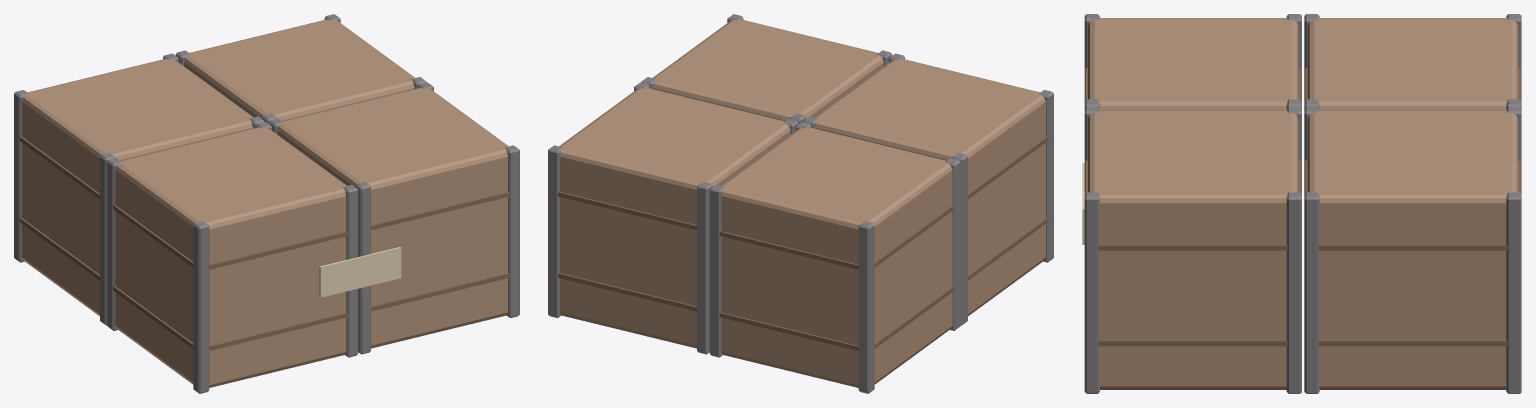
The model's file is crates.glb.
3 renders of one model, left to right at view 1: azimuth 30°, elevation 25°; view 2: azimuth 150°, elevation 25°; view 3: azimuth 270°, elevation 25°, orthographic. The views are drawn at different scales.
Visible parts, largest first — view 1: wood.001, wood.003, wood, wood.002, iron.005, cloth2*0.9, iron.015, iron.013, iron.007, iron.004, iron.001, iron (+8 smaller); view 2: wood, wood.002, wood.001, wood.003, iron, iron.008, iron.002, iron.010, iron.001, iron.004, iron.005, plank*0.008 (+7 smaller); view 3: wood.002, wood.003, wood, wood.001, iron.015, iron.010, iron.011, iron.014, plank*0.018, plank*0.022, plank*0.026, plank*0.030.
Part boxes in pixels (x1,y1,x2,y2): wood.001: (115,127,346,387); wood.003: (277,88,508,348); wood: (22,59,253,316); wood.002: (184,19,414,121); iron.005: (193,221,209,393); cloth2*0.9: (319,247,401,297); iron.015: (505,145,519,317); iron.013: (355,181,370,354); iron.007: (343,184,358,357); iron.004: (107,158,122,330); iron.001: (100,152,115,325); iron: (14,90,28,262); wood: (721,127,952,387); wood.002: (559,88,790,348); wood.001: (814,59,1045,316); wood.003: (653,19,883,121); iron: (858,221,874,393); iron.008: (697,181,712,354); iron.002: (709,184,724,357); iron.010: (548,145,562,317); iron.001: (945,158,960,330); iron.004: (952,152,967,325); iron.005: (1039,90,1053,262); plank*0.008: (719,231,858,269); wood.002: (1307,111,1518,389); wood.003: (1088,111,1298,389); wood: (1307,18,1518,110); wood.001: (1088,18,1298,110); iron.015: (1084,192,1099,393); iron.010: (1506,192,1521,393); iron.011: (1304,192,1319,393); iron.014: (1286,192,1301,393); plank*0.018: (1318,340,1507,346); plank*0.022: (1318,244,1507,250); plank*0.026: (1098,340,1287,346); plank*0.030: (1098,244,1287,250).
Size of the model in its own units: 1.99 by 0.99 by 2.
